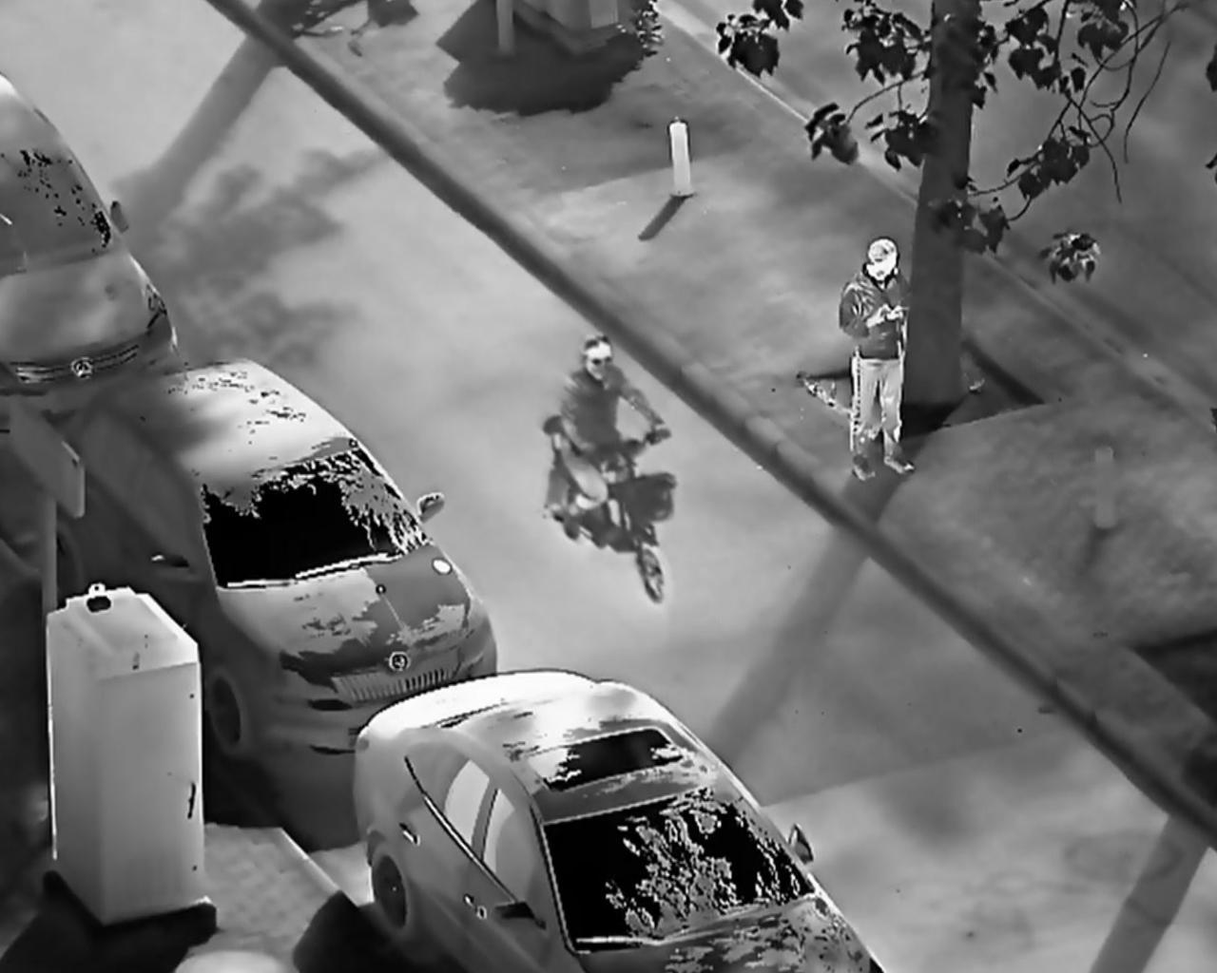person: (557, 331, 671, 536), (836, 237, 921, 481)
